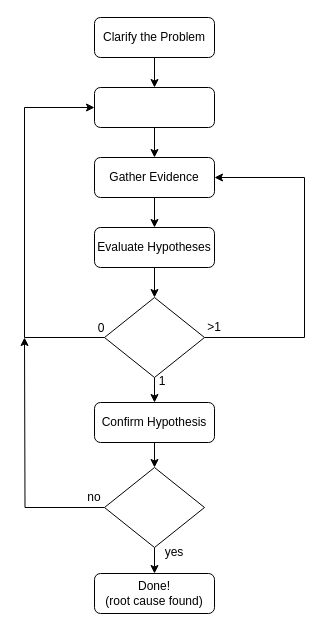
Image size: 330x631. Some labels were removed from this diagram. The centre of each missing label's shape, as x and y in pixels:
Confirmed?: the point at 154,507
Generate Hyptoheses: the point at 154,107
How many hypotheses are valid?: the point at 154,337
